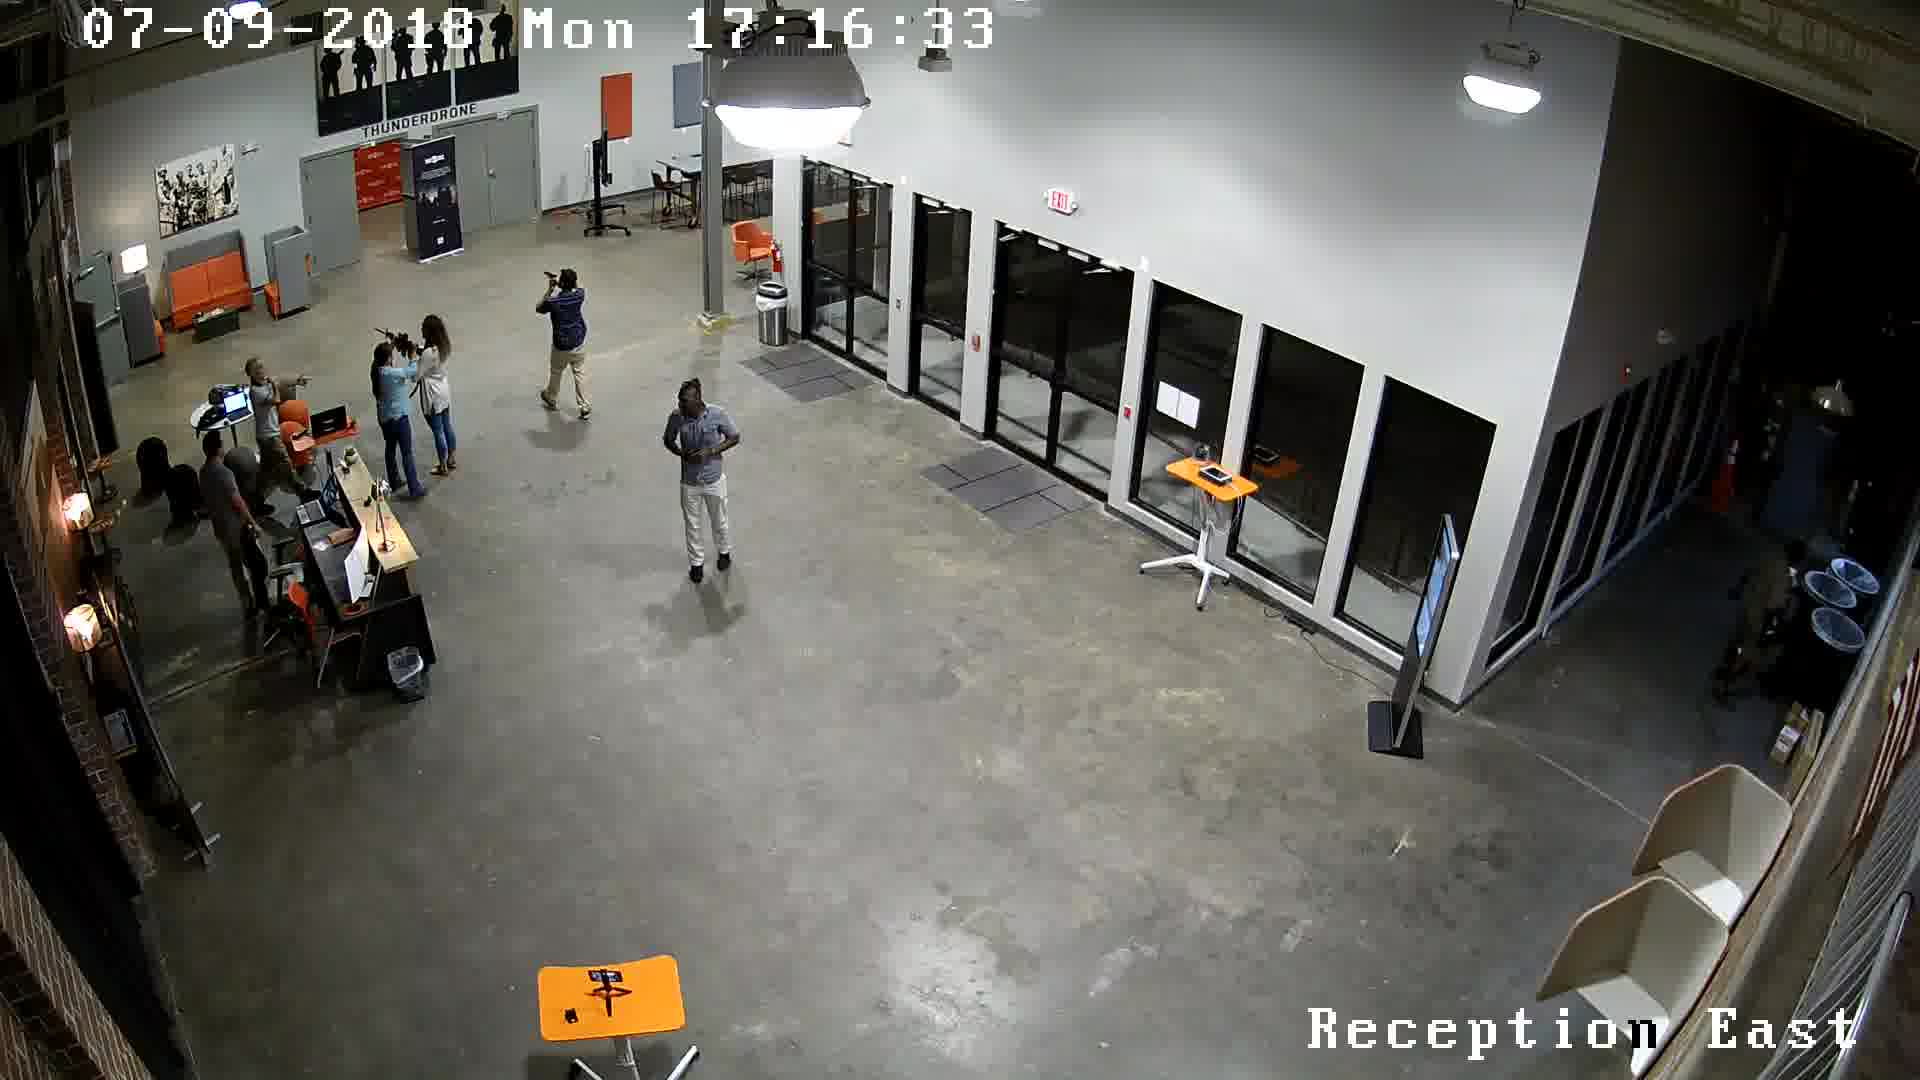pistol: (679, 442, 719, 468), (533, 262, 563, 293)
